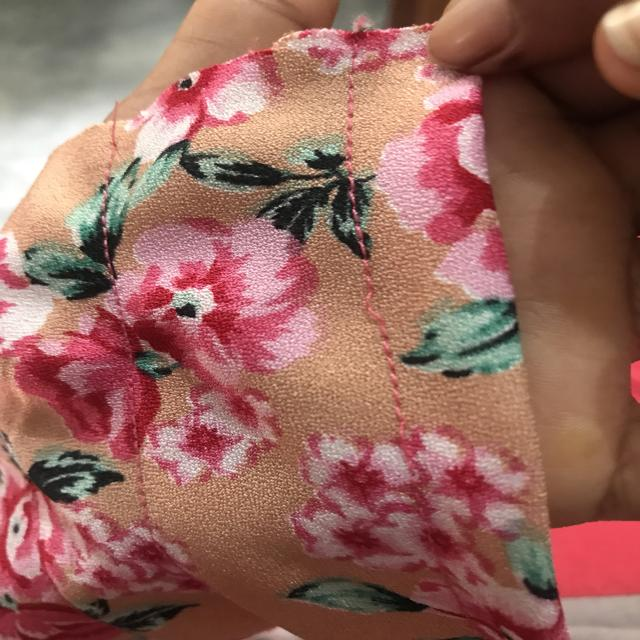skip: (348, 276, 408, 344)
